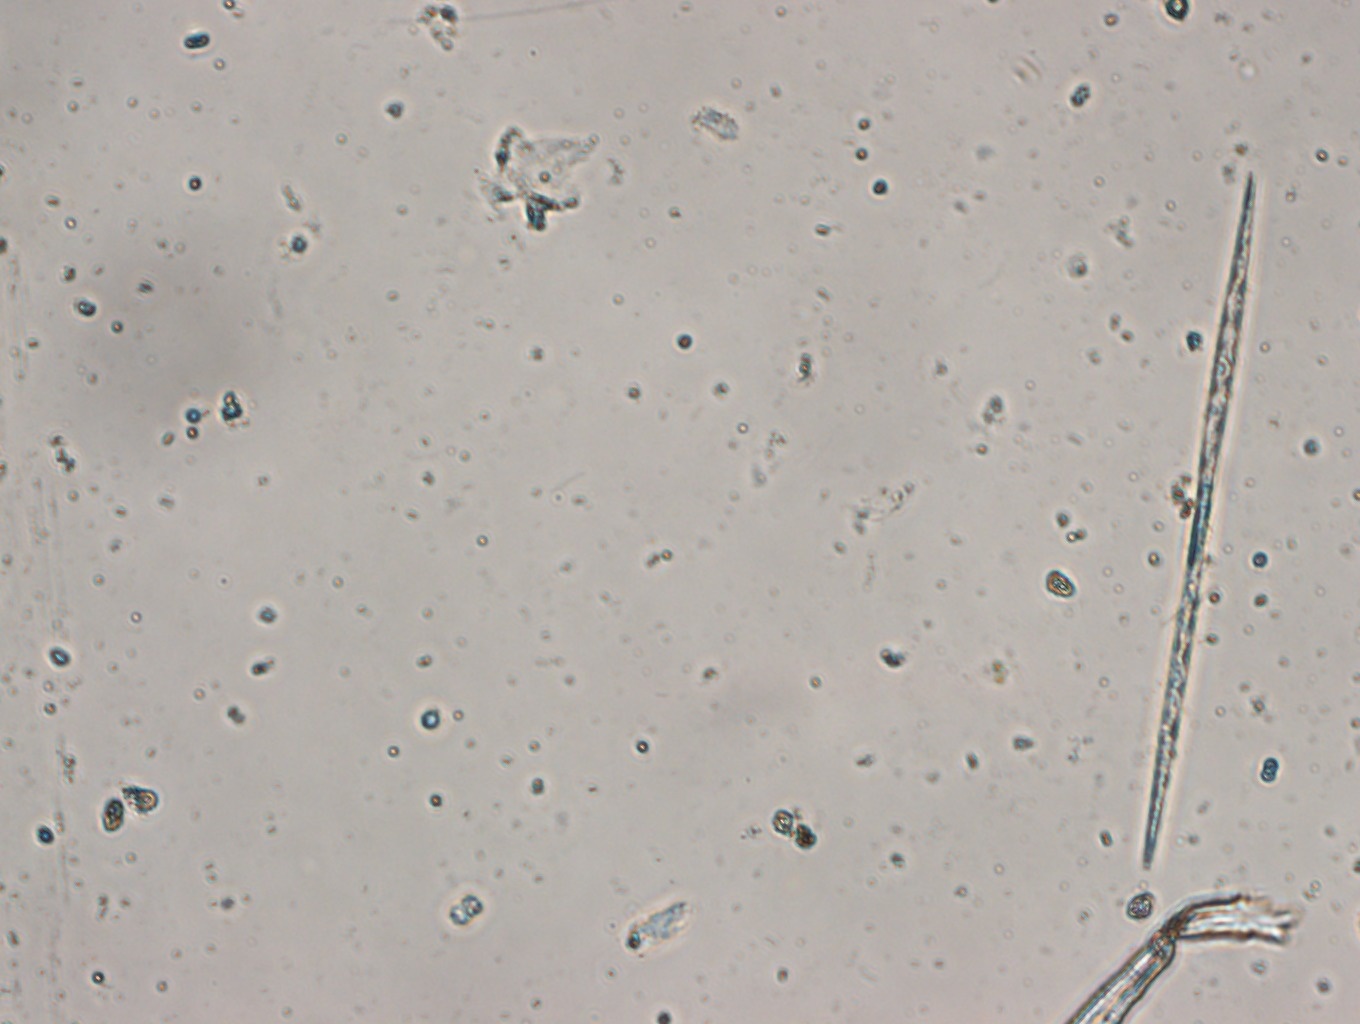ceratium fusus: (1142, 172, 1262, 861)
